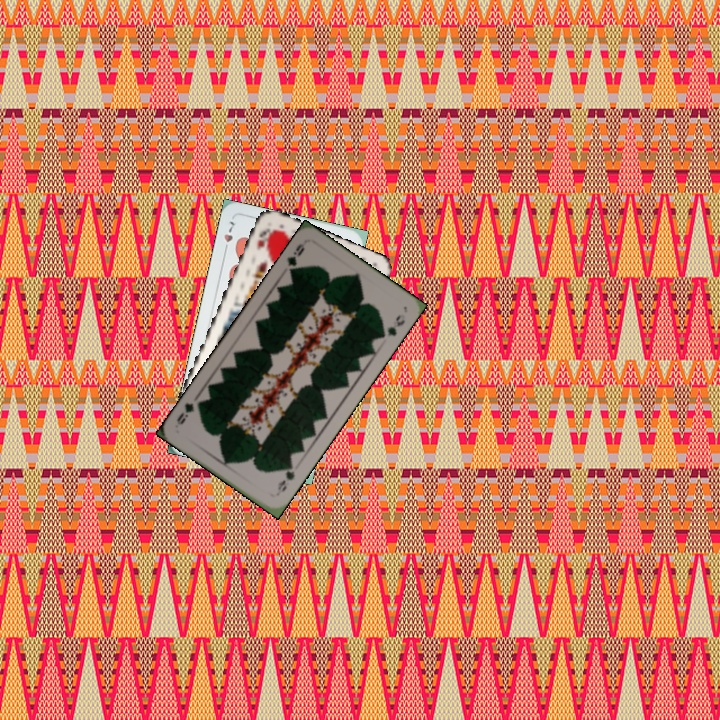G9: (283, 239, 308, 278), (272, 460, 297, 499)
H7: (220, 217, 237, 256)
HK: (253, 224, 273, 253)
